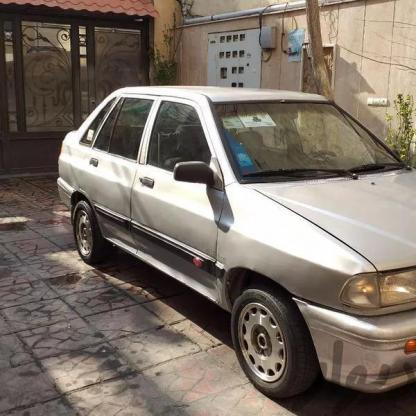Car: (55, 88, 415, 416)
